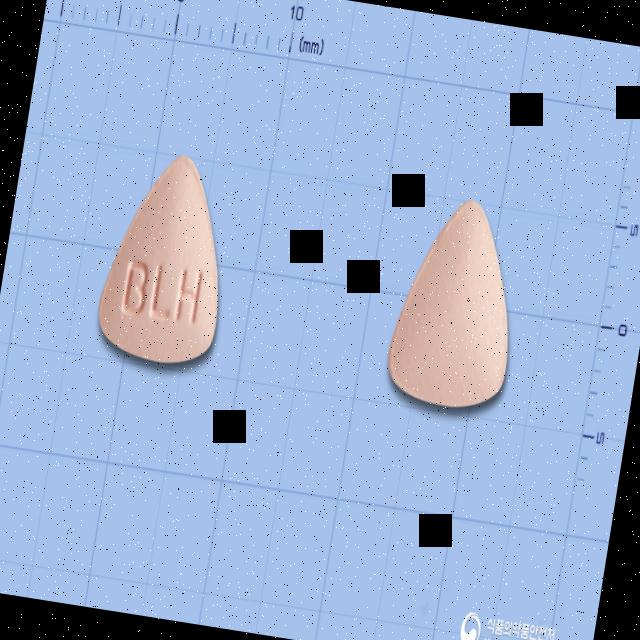Baracle: (88, 142, 248, 380)
